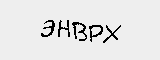Б: (57, 26, 80, 48)
М: (18, 24, 39, 44)
О: (100, 27, 125, 44)
Т: (78, 26, 100, 46)
Ч: (127, 25, 145, 38)
Ғ: (36, 27, 56, 45)
